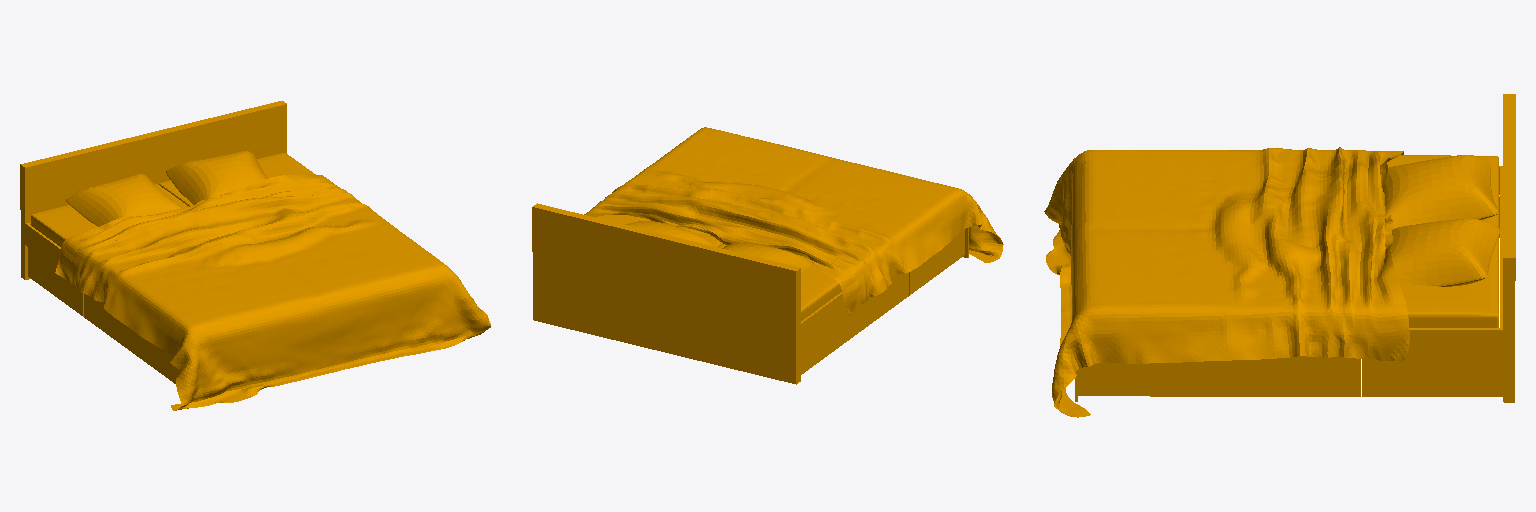
URDF robot description (none):
<robot name="none">
       <link name="none">
           <visual>
               <origin rpy="1.57 0 0" xyz="0 0 0" />
               <geometry>
                   <mesh filename="bedWithTexture.obj" />
               </geometry>
           </visual>
          <collision>
              <geometry>
                  <box size="0.992256 0.337956 1.000000" />
              </geometry>
          </collision>

          <inertial>
            <mass value="0.0" />
            <inertia ixx="0.0" ixy="0.0" ixz="0.0" iyy="0.0" iyz="0.0" izz="0.0" />
          </inertial>
      </link>
  </robot>

--- Facts derived from the render (not from the file) ---
Views: 3 orthographic renders of the robot side by side, from view 1: azimuth 30°, elevation 25°; view 2: azimuth 150°, elevation 25°; view 3: azimuth 270°, elevation 25°.
Model none with 1 links and 0 joints (none), rooted at none, posed all joints at 0.
Visible links, largest first — view 1: none; view 2: none; view 3: none.
Link boxes in pixels (bbox=[...]): none: bbox=[20, 101, 490, 410]; none: bbox=[532, 127, 1003, 384]; none: bbox=[1044, 94, 1515, 417].
Bounding box of the posed robot: 0.9923 × 1 × 0.3379 m (x, y, z).
Meshes: 1 distinct files referenced, 1 mesh visuals loaded (1 OBJ).